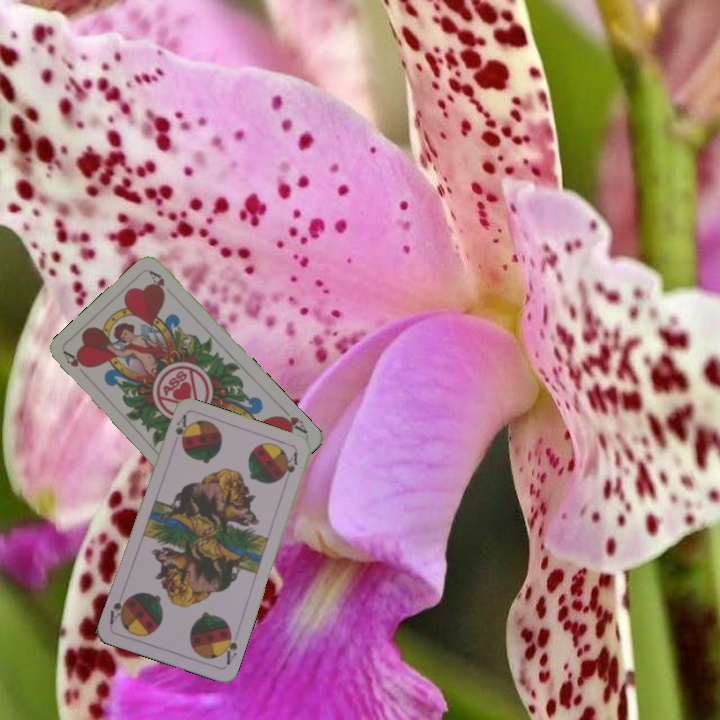HA: (275, 404, 310, 436), (60, 348, 91, 382)
SA: (218, 626, 240, 668), (171, 411, 189, 446)
